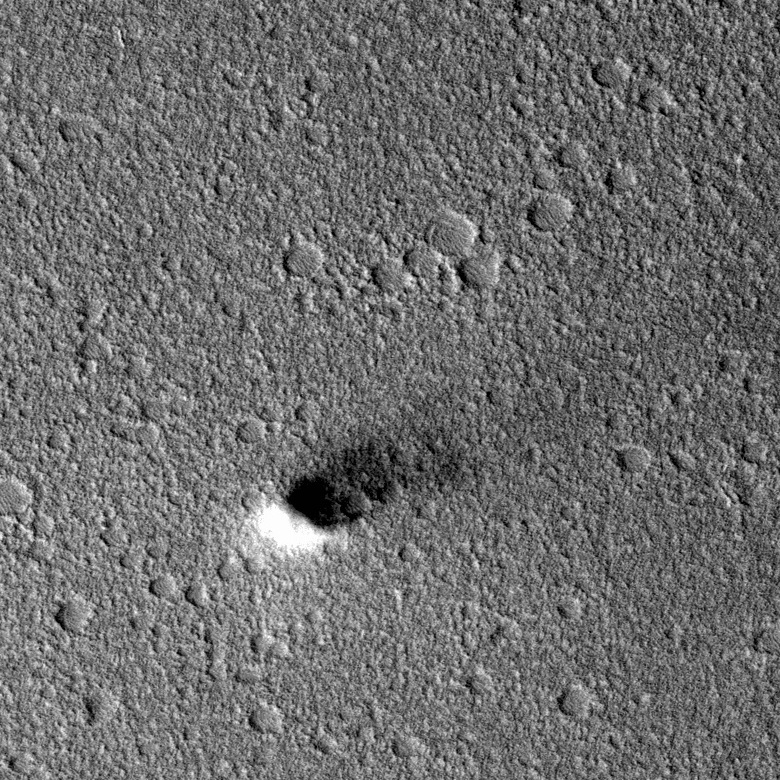dust_devil: (250, 426, 482, 558)
